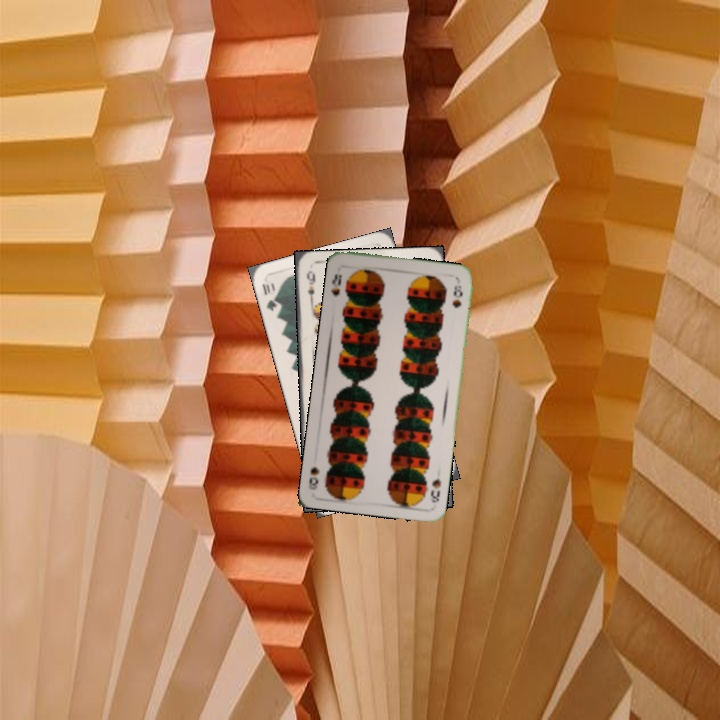E9: (303, 266, 318, 306)
G10: (258, 279, 281, 314)
S8: (425, 475, 444, 505), (327, 270, 344, 299)
